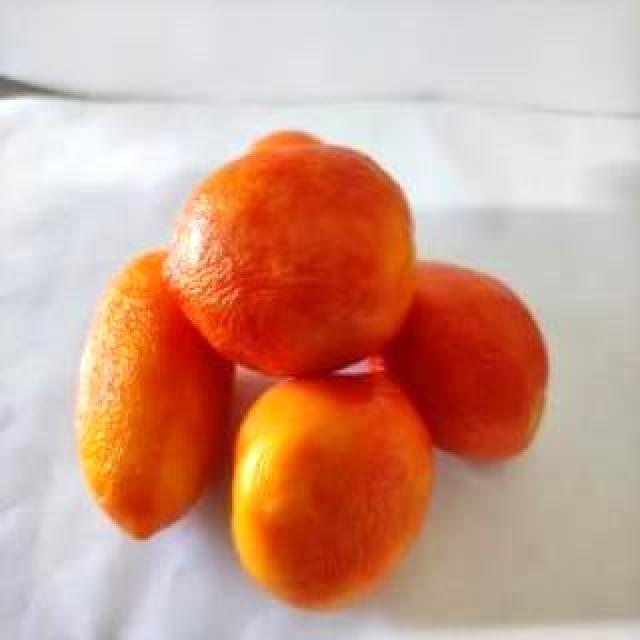Rotten_Tomato: (156, 138, 426, 384), (224, 360, 442, 620), (74, 242, 232, 544), (356, 254, 556, 480)
